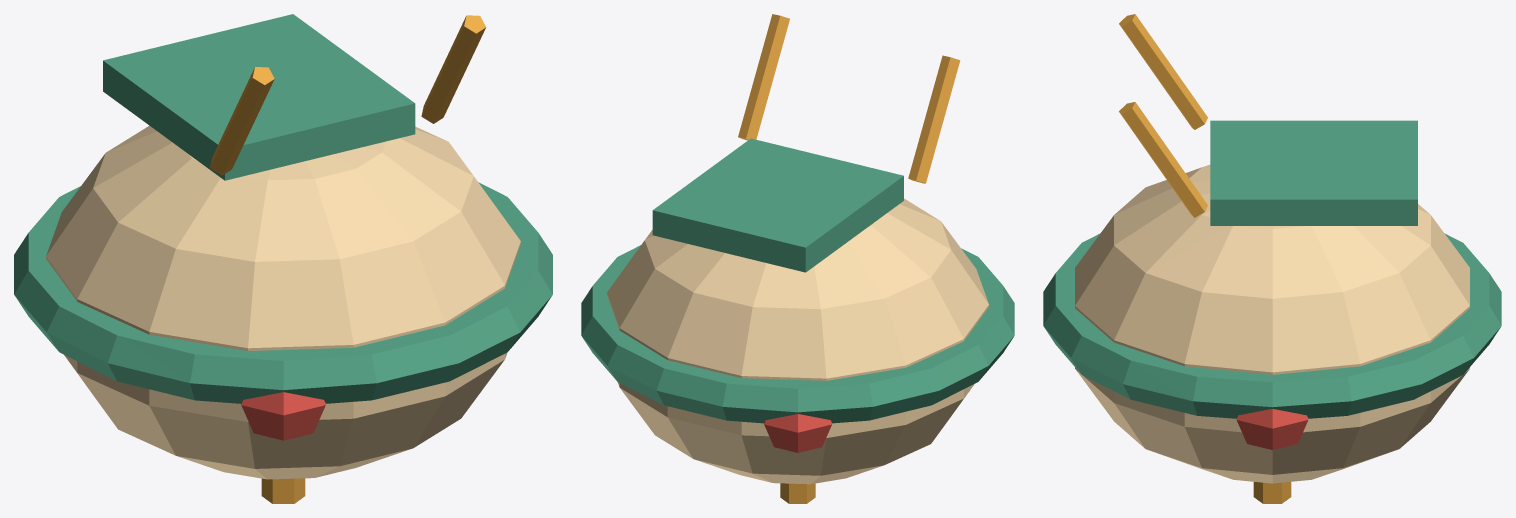
Rendered from ParkParkSnowPod.obj.
The picture shows the model from 3 angles, left to right: view 1: azimuth 30°, elevation 25°; view 2: azimuth 150°, elevation 25°; view 3: azimuth 270°, elevation 25°; orthographic projection. The views are drawn at different scales.
Visible parts, largest first — view 1: ParkParkSnowPod; view 2: ParkParkSnowPod; view 3: ParkParkSnowPod.
Boxes of the visible parts, x1=… form: ParkParkSnowPod: x1=14, y1=14, x2=552, y2=503; ParkParkSnowPod: x1=581, y1=14, x2=1014, y2=503; ParkParkSnowPod: x1=1043, y1=14, x2=1501, y2=503.
Size of the model in its own units: 2.27 by 2.33 by 2.21.
